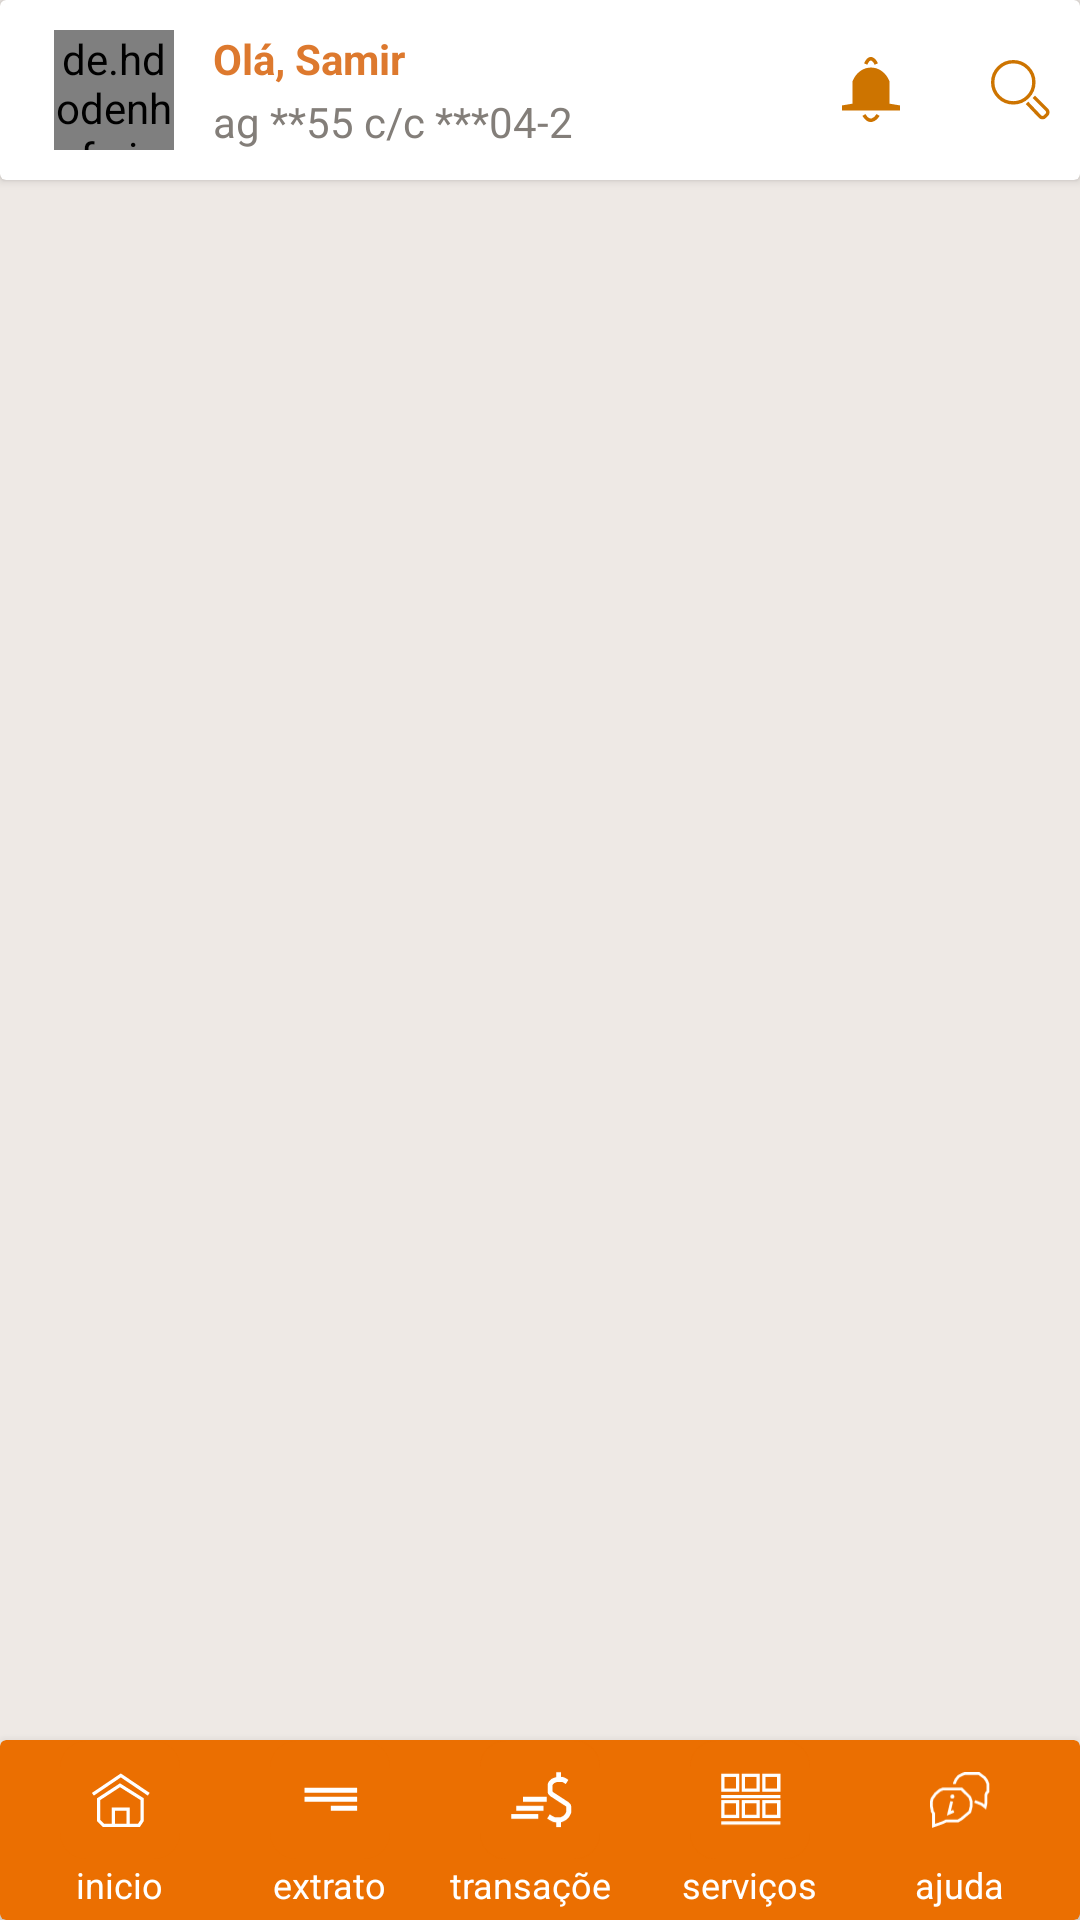

Where to tap for icons on this 1080×1920 app screen, as (x,y):
bell: (871,89)
home: (121,1800)
search: (1020,90)
servicos: (751,1799)
transacoes: (541,1800)
